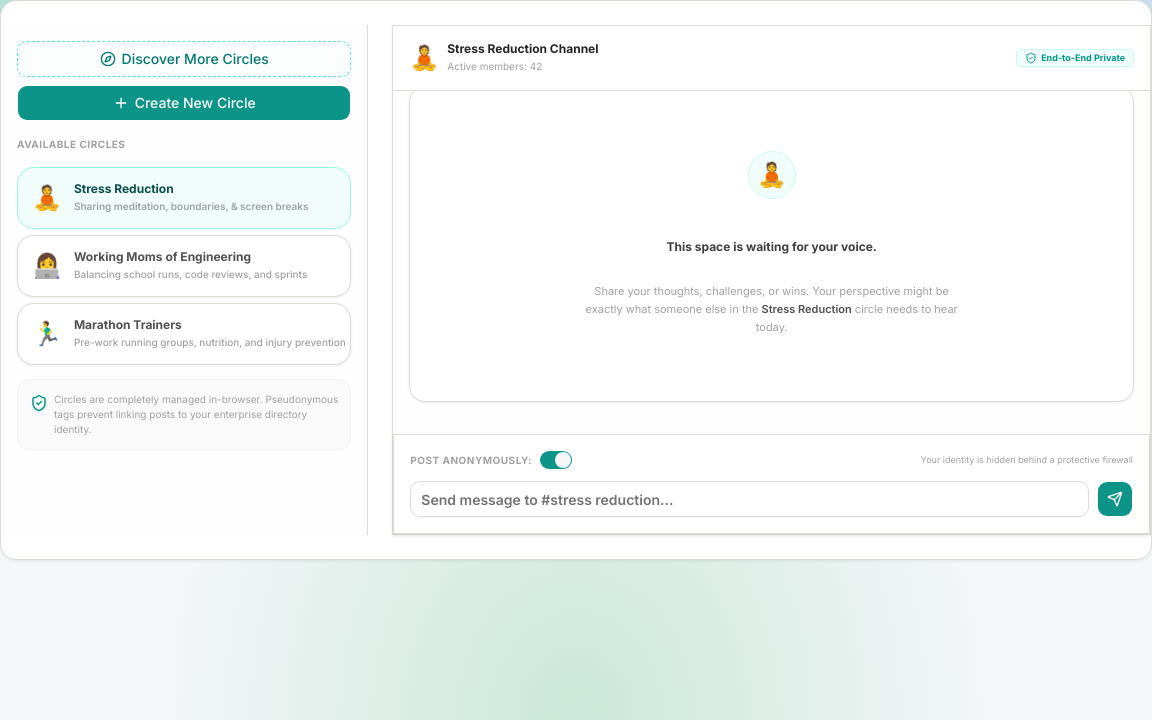
Test: SupportCircles › opens the create circle modal and creates a new circle
The width and height of the screenshot is (1152, 720).
(page scrolled)
Expected: the heading "Stress Reduction Channel" is shown, [447, 43, 598, 55]
Click the button "Create New Circle" at (184, 103), box [17, 85, 351, 121]
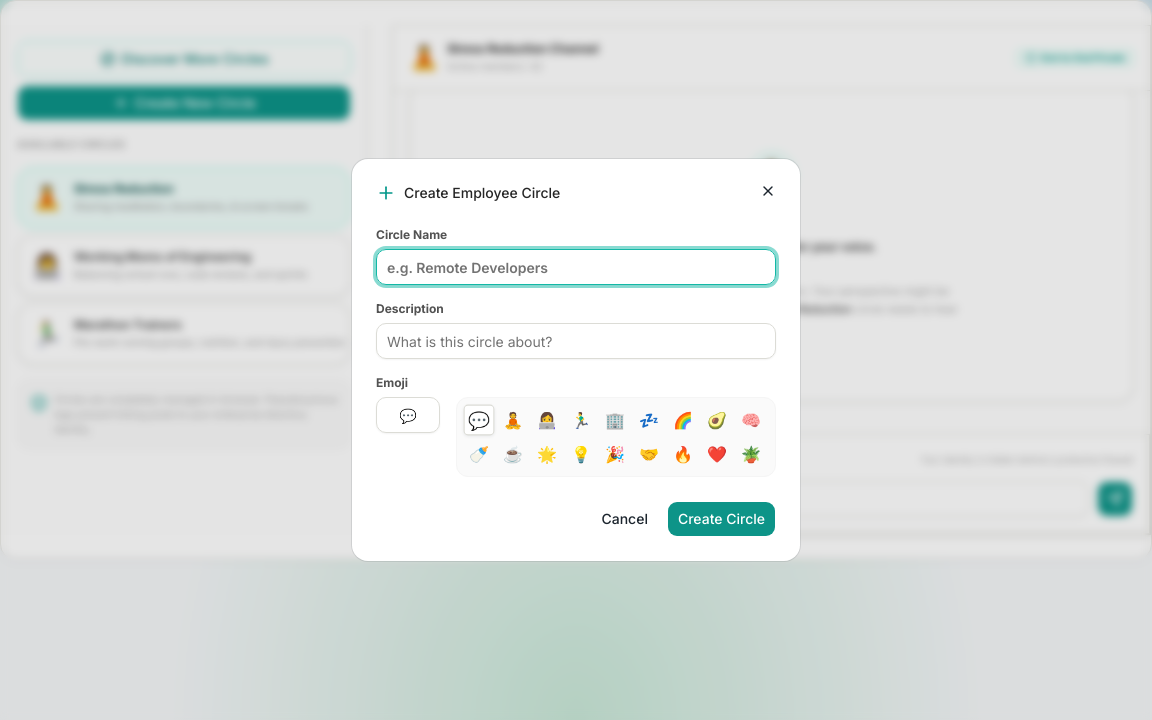
Now the heading "Create Employee Circle" is shown, box [376, 183, 560, 203]
Type "Book Club" into the field with placeholder "e.g. Remote Developers" at (576, 267), box [376, 249, 776, 285]
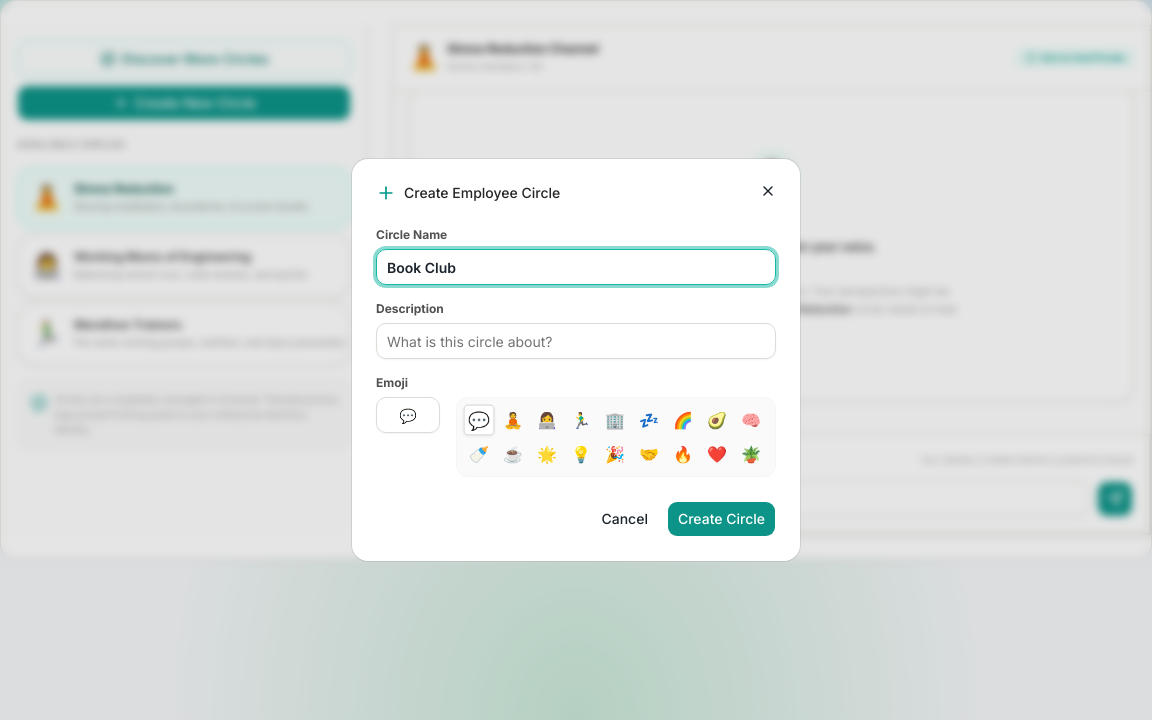
Click the button "Create Circle" at (721, 519), box [667, 501, 776, 537]
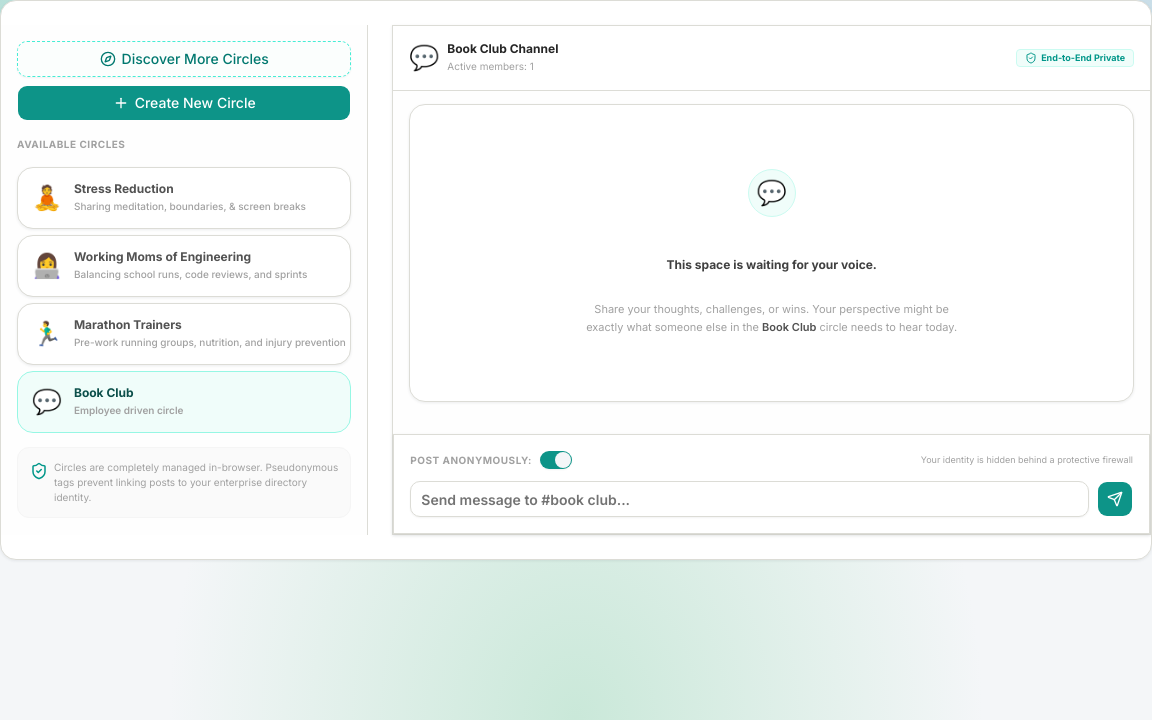
Now the heading "Book Club Channel" is shown, box [447, 43, 558, 55]
